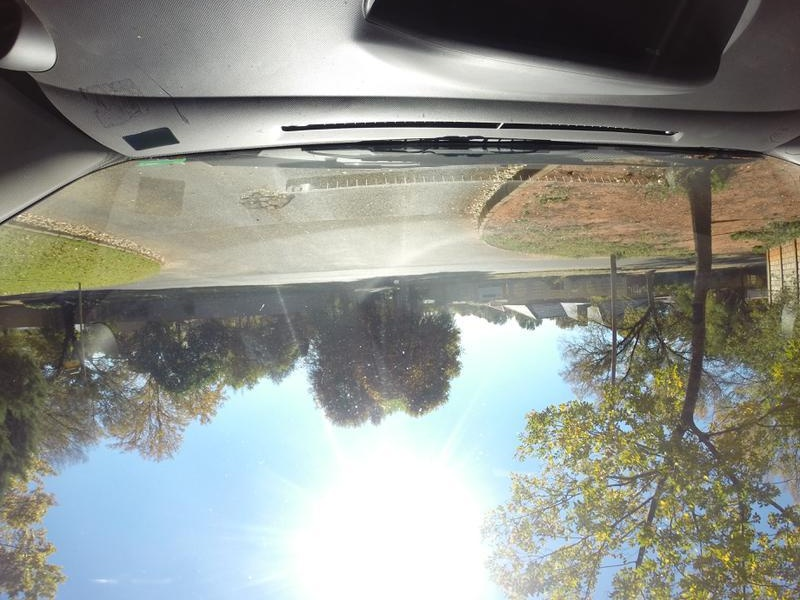pothole: (240, 190, 287, 216)
